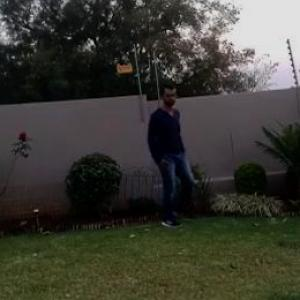follow: (136, 80, 192, 234)
